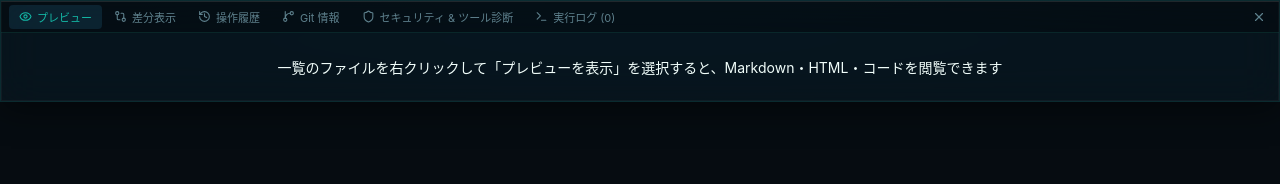
Scenario: BottomTabPanel & Diff Operations (Phase 4.2) › displays identical content message without reflect button when no changes exist (Test 2)
Switch to "差分表示" tab
Click the button "差分表示" at (145, 16), box [104,4,186,28]
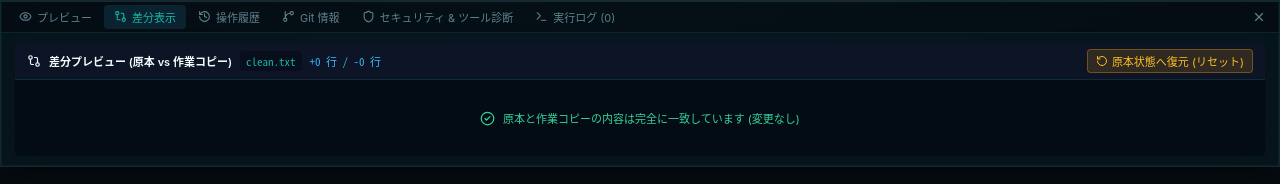
expect the text "原本と作業コピーの内容は完全に一致しています (変更なし)" is shown: met, box [503,110,800,126]
